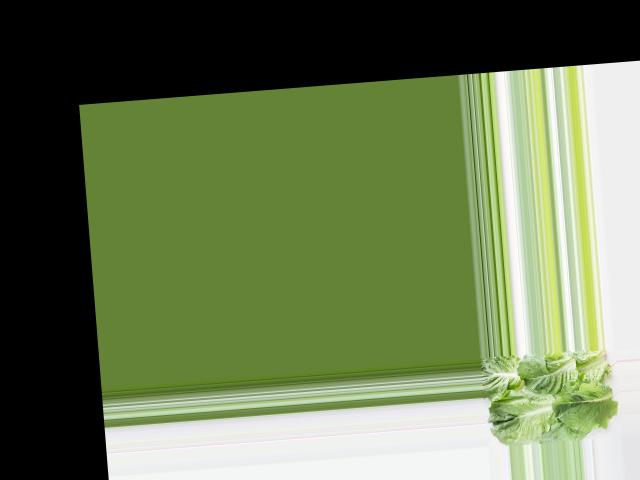lettuce: (483, 346, 616, 444)
